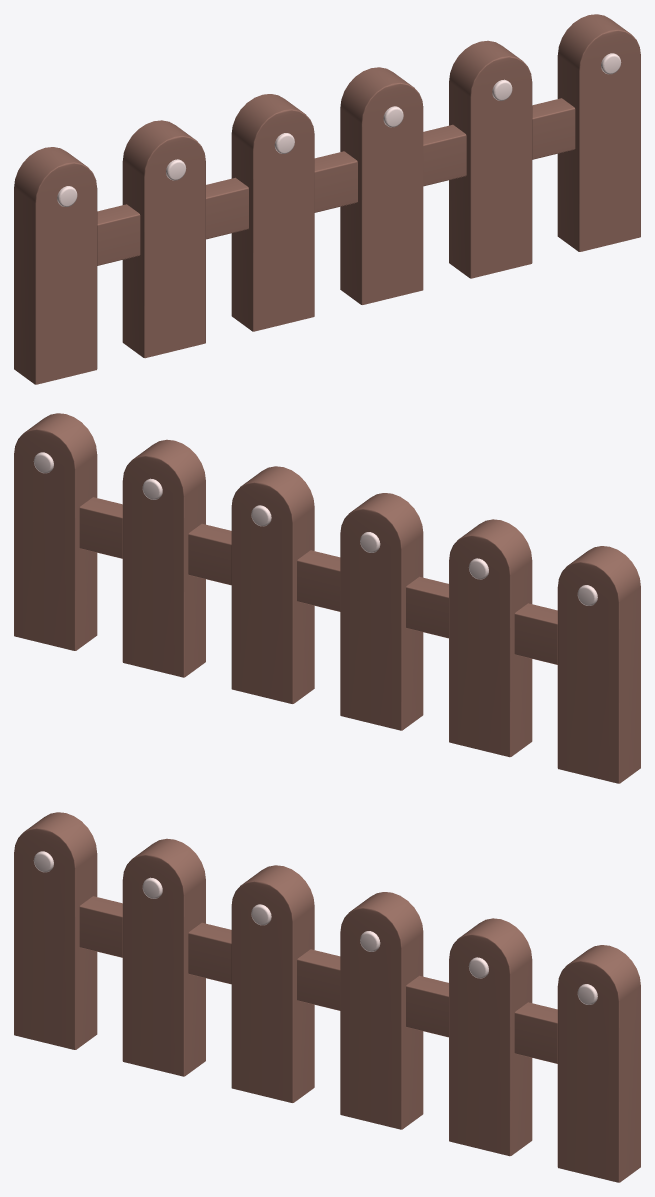
File: Farm_14_Fence_2.glb
3 views of the same model, one above another, from view 1: azimuth 30°, elevation 25°; view 2: azimuth 150°, elevation 25°; view 3: azimuth 330°, elevation 25° (orthographic).
Parts seen in each view (by area): view 1: Farm_14_Fence_2; view 2: Farm_14_Fence_2; view 3: Farm_14_Fence_2.
Part boxes in pixels (x1,y1,x2,y2): Farm_14_Fence_2: (14,14,640,384); Farm_14_Fence_2: (14,413,640,783); Farm_14_Fence_2: (14,812,640,1182).
Size of the model in its own units: 2.41 by 0.8115 by 0.1813.
Materials: 1 (1 with a texture image).
